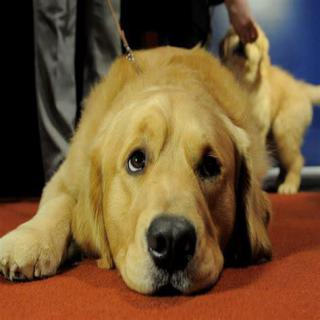dog: (53, 48, 278, 307)
